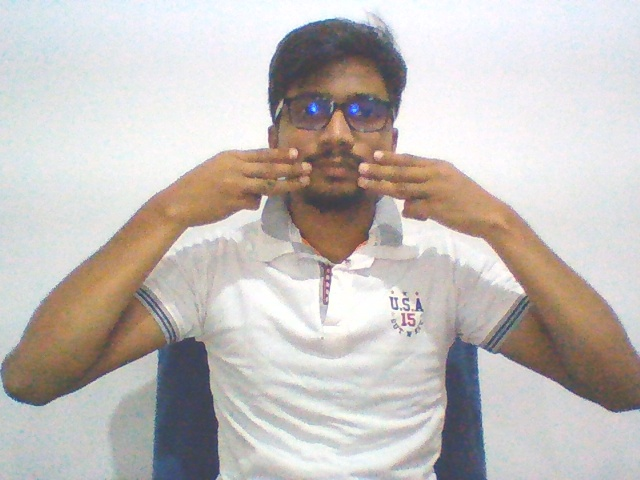cat: (149, 137, 518, 260)
